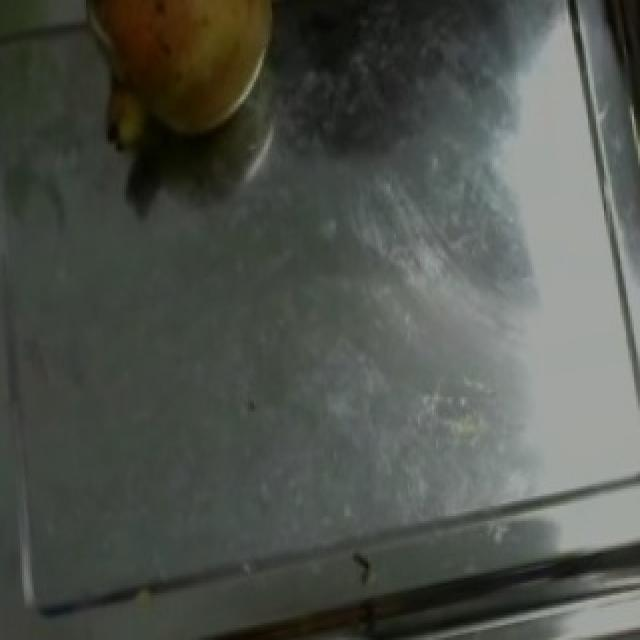fruit: (66, 0, 298, 156)
